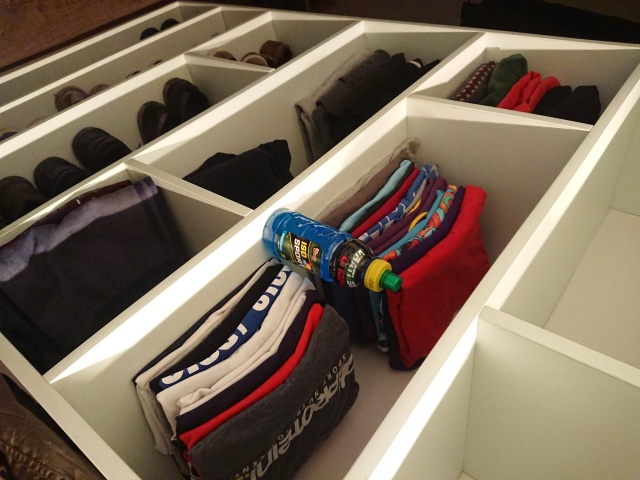Vindi Iso Sport Forest Strawberries 500mL: (261, 207, 404, 294)
